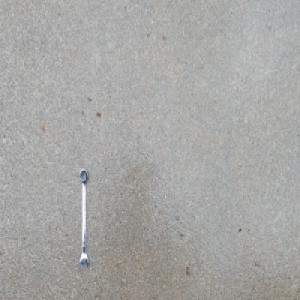Wrench: (78, 166, 89, 272)
